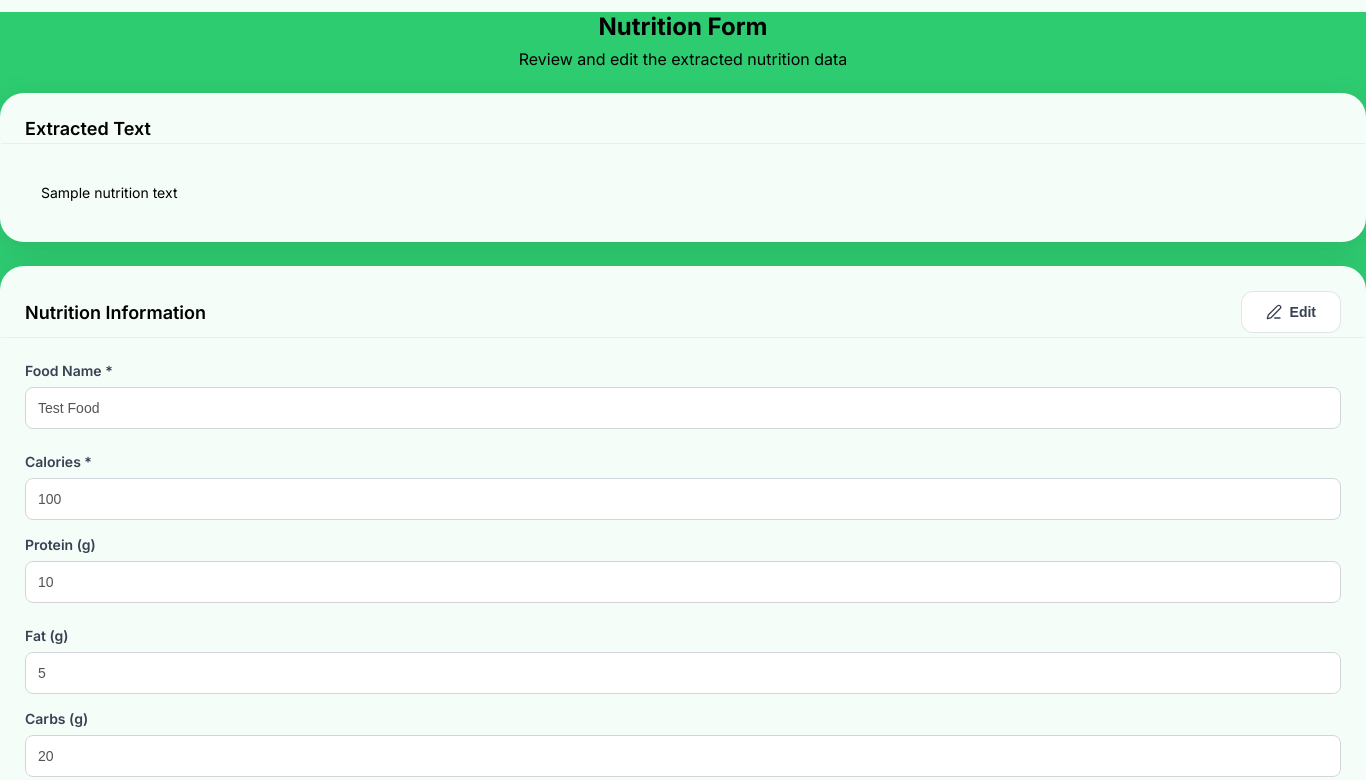
Test: NutritionForm Component › enables editing when Edit button is clicked
Click the button "Edit" at (1291, 312), box [1240,291,1341,333]
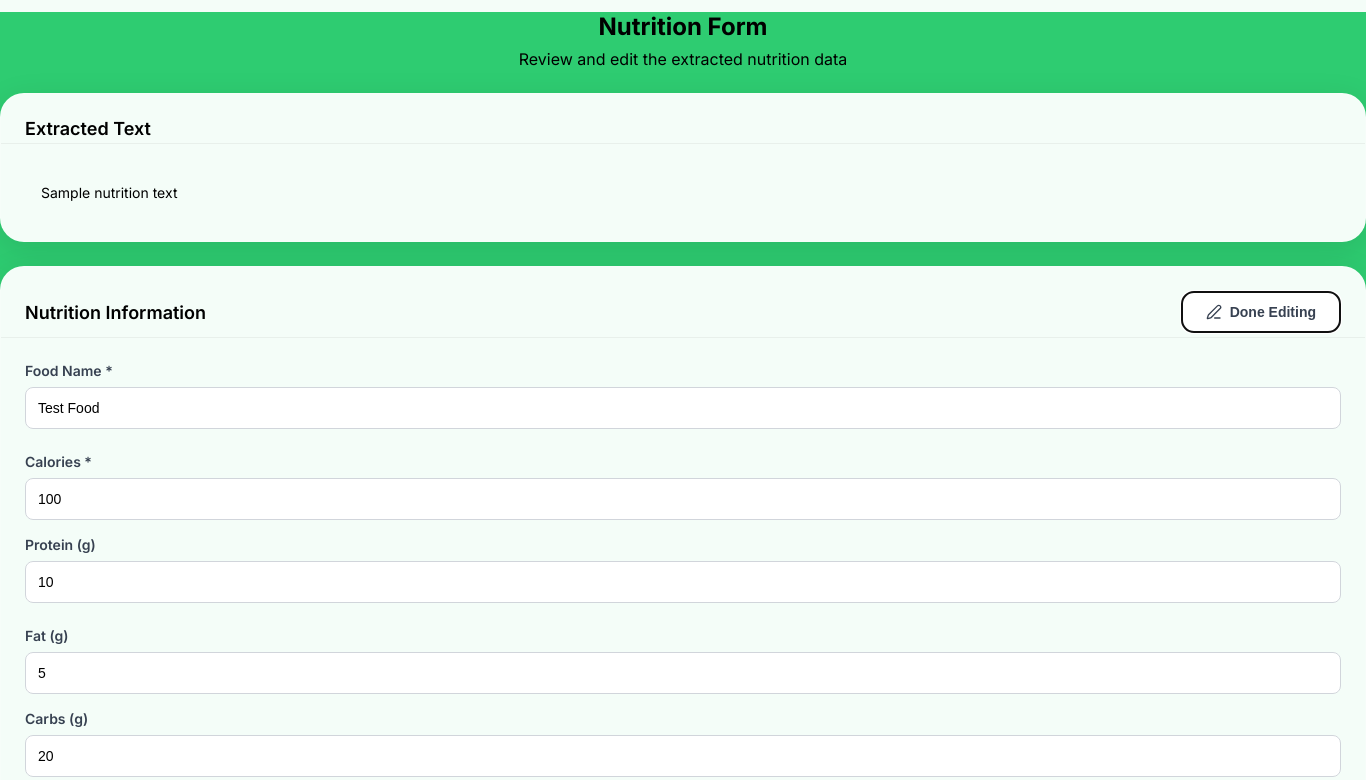
Check: the button "Done Editing" is shown, box [1181,291,1341,333]
